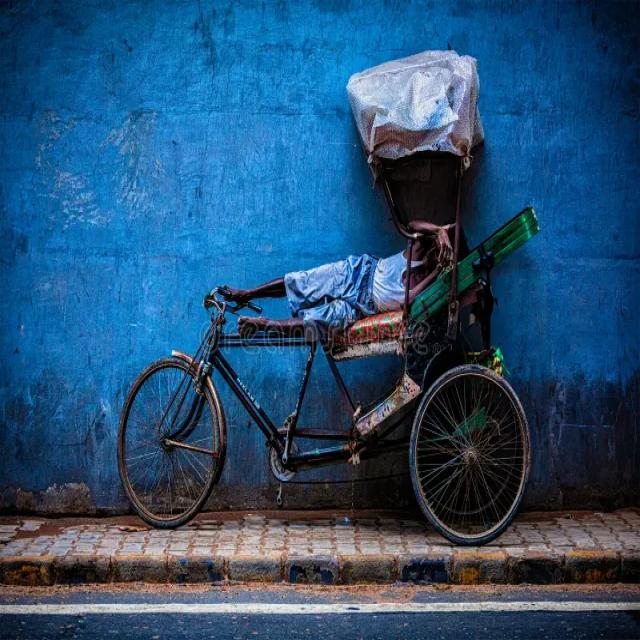rickshaw: (100, 59, 548, 528)
